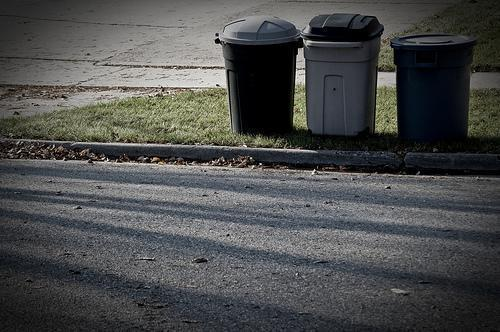Bote de Basura: (213, 10, 295, 134), (297, 5, 375, 134), (390, 33, 477, 141)
